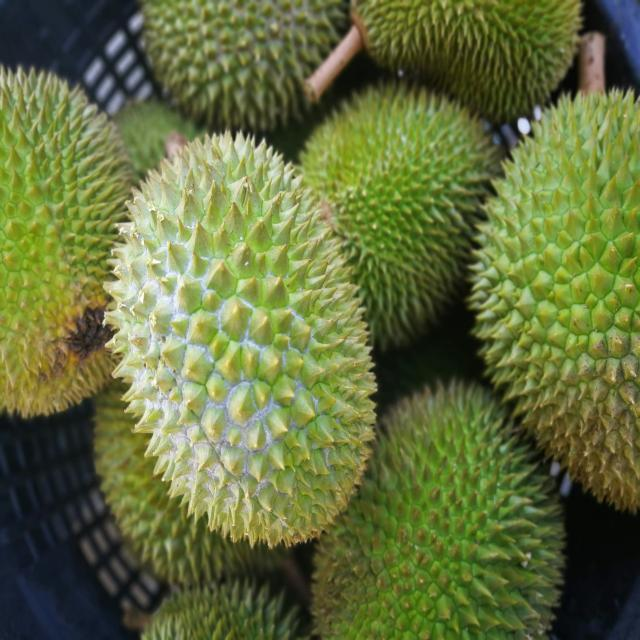immature: (102, 128, 378, 555)
